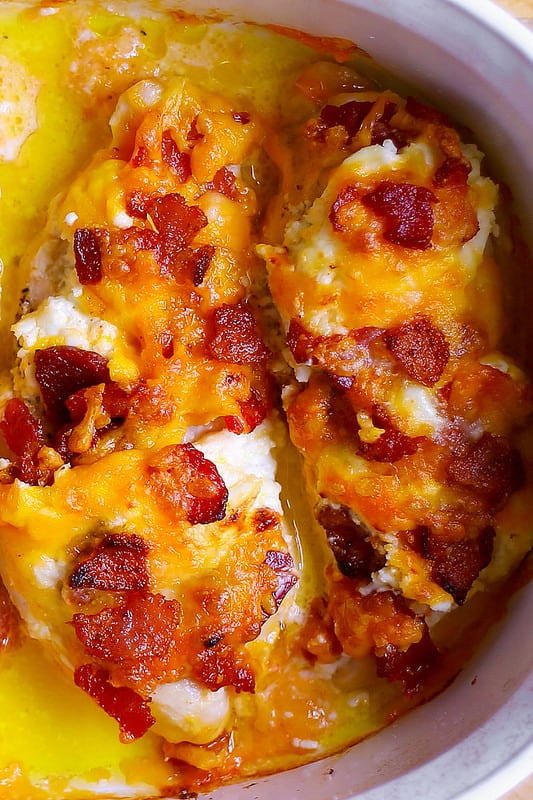cheese: (22, 276, 277, 622), (305, 145, 472, 372)
